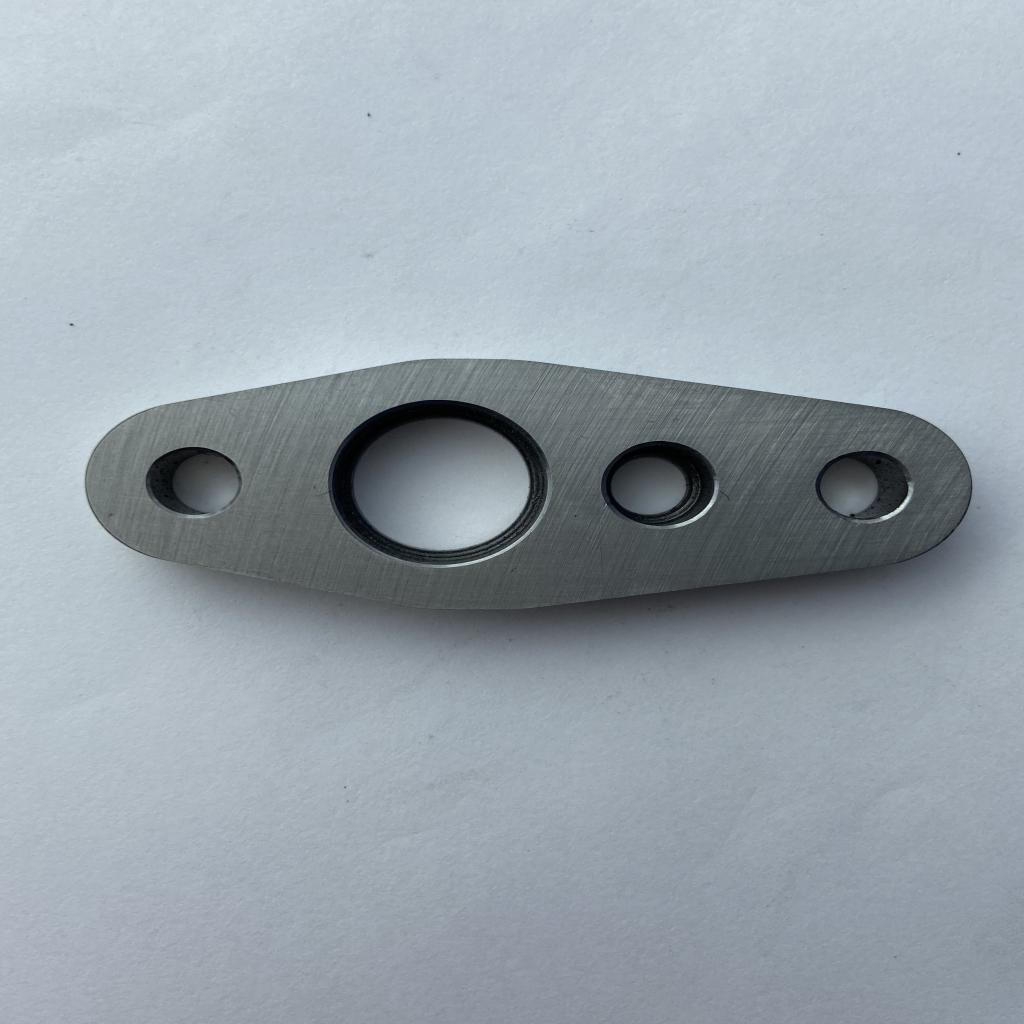chap: (599, 500, 612, 510), (105, 511, 118, 519)
lines: (315, 487, 336, 498), (719, 488, 731, 502)
